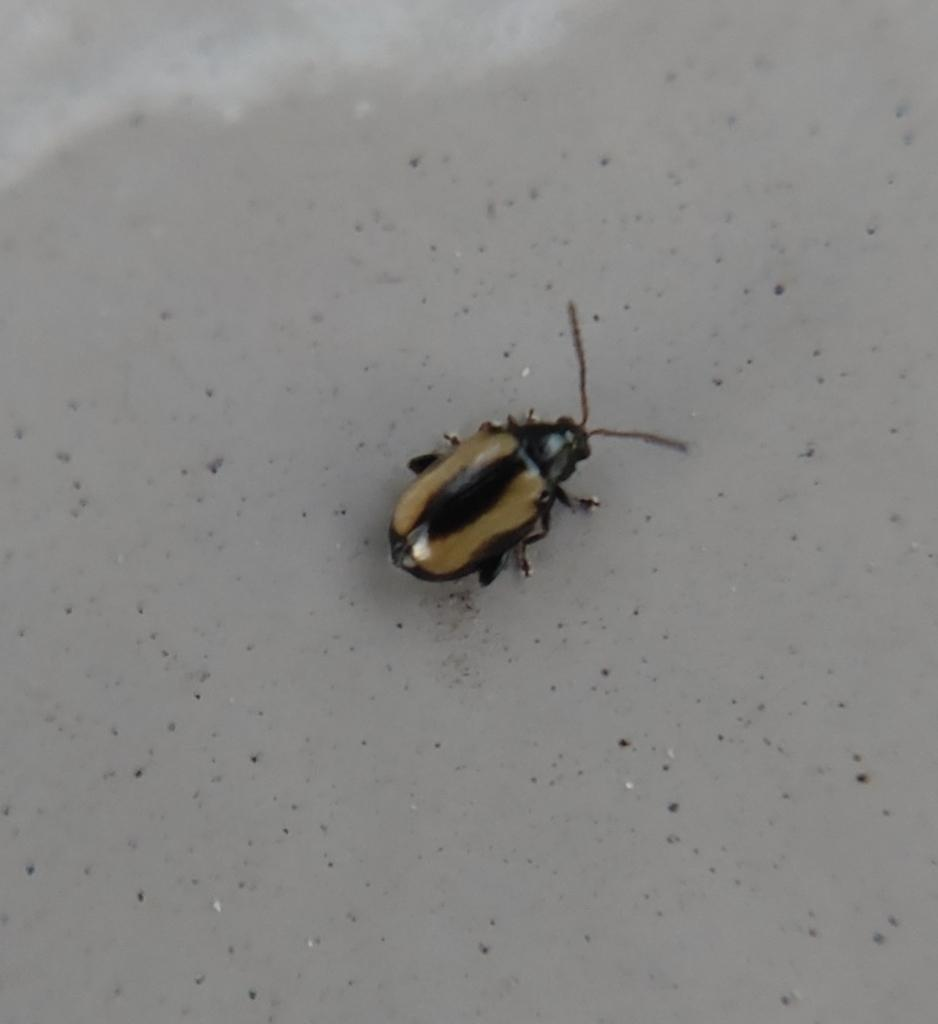flea_beetle: (330, 239, 760, 681)
